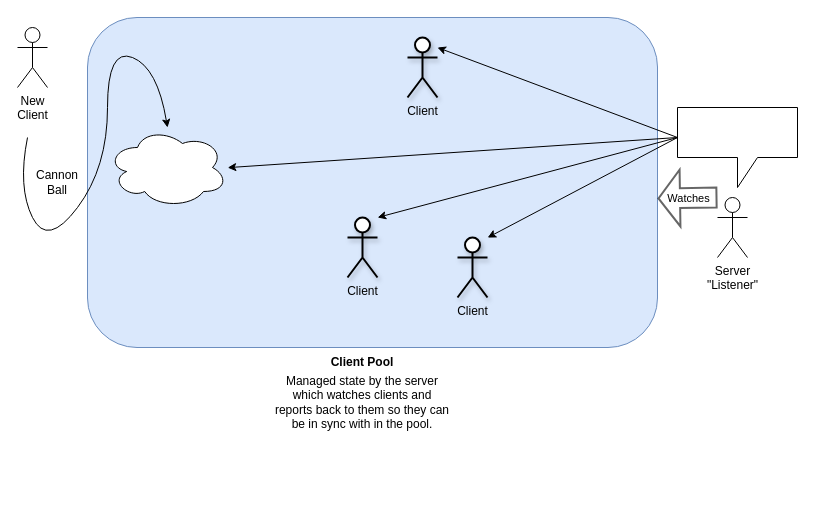
This 815x508 diagram has some shape labels left out. The shapes that lost their labels are listed below. From the top down, each one's centre as x and y in pixels, then its label:
At [167,167]: "Splash".
At [737,147]: "Pool Status Reports".
